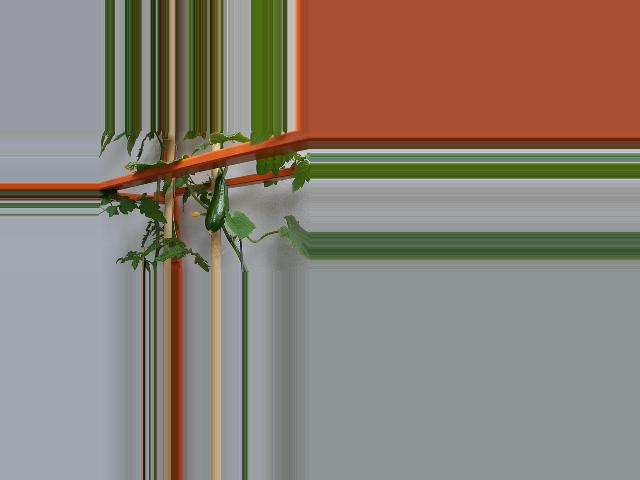cucumber: (204, 176, 228, 236)
